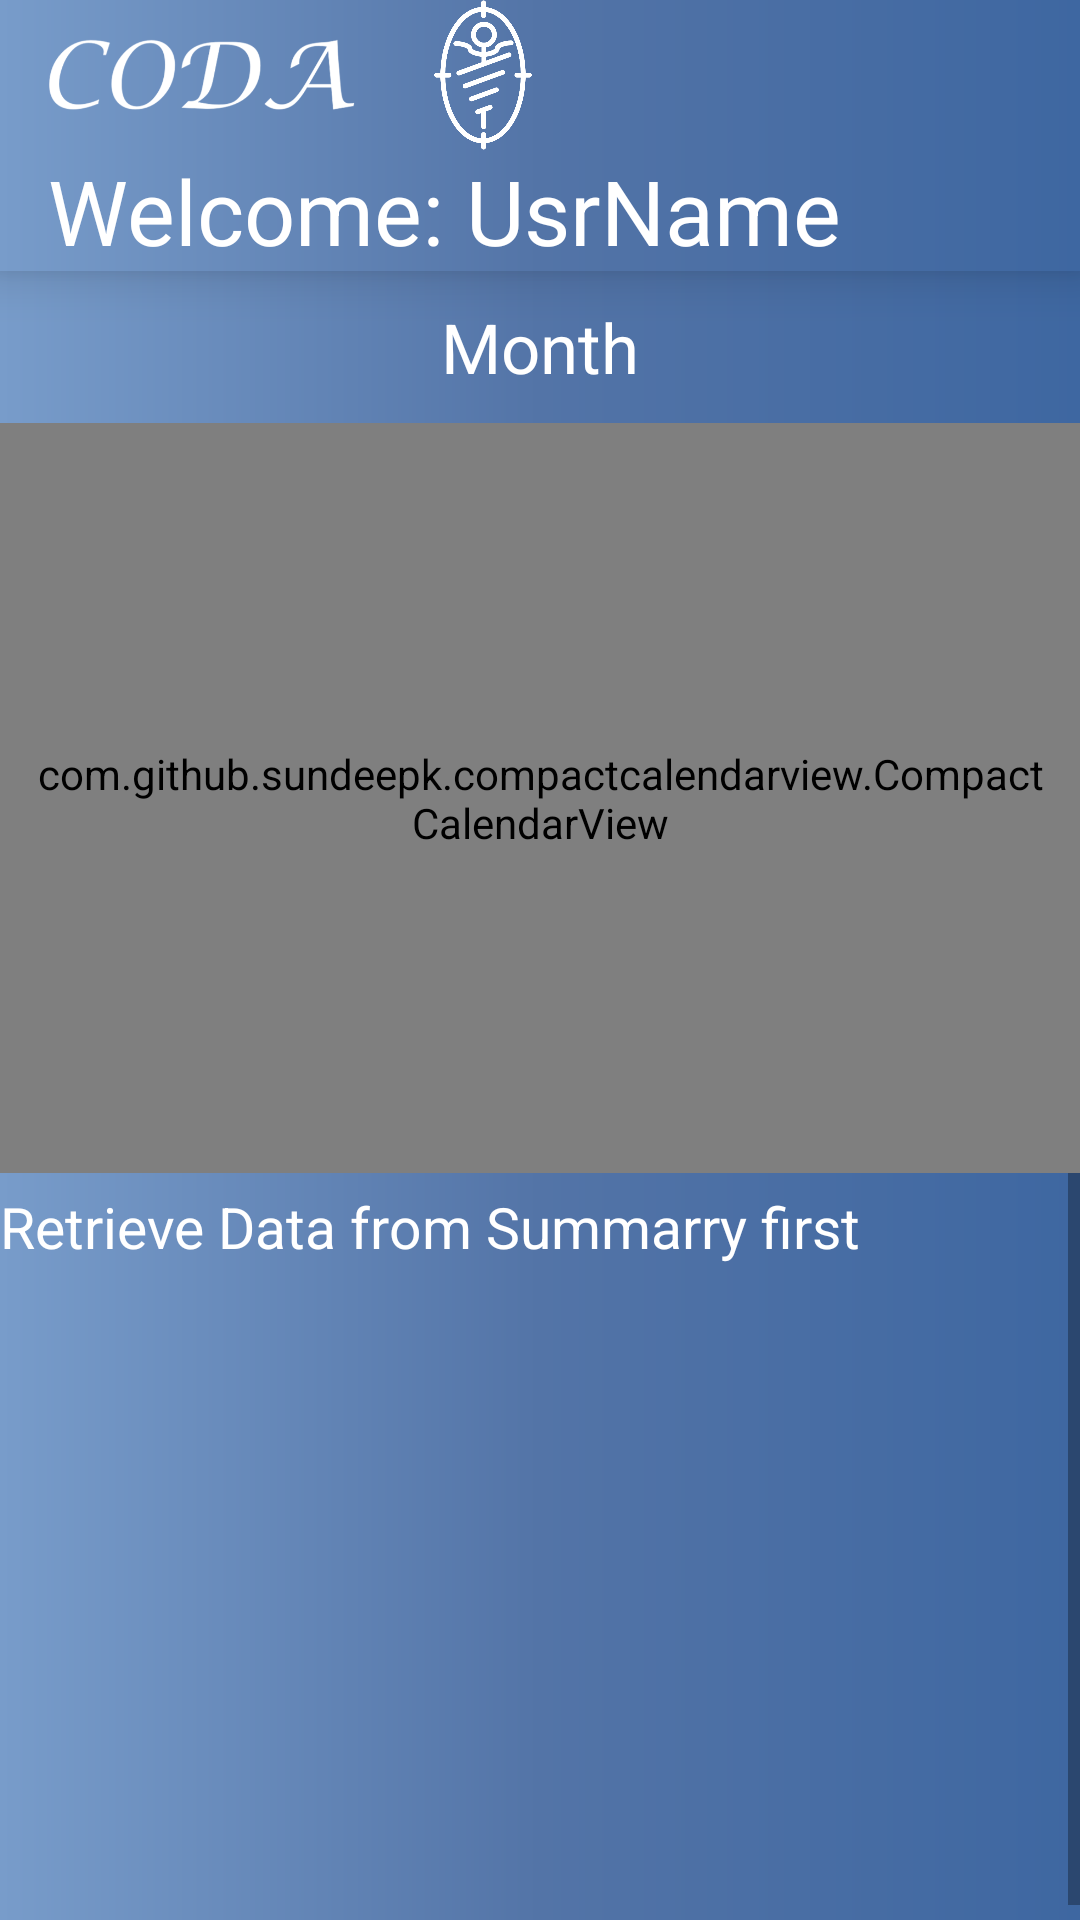

Where to tap for icons on this 1080x1920 app screen, as [x,y]:
coda symbol: [483,75]
